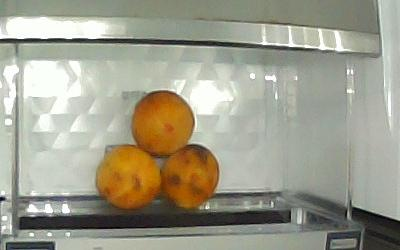peach: (95, 145, 160, 209), (131, 89, 194, 155), (161, 145, 219, 211)
